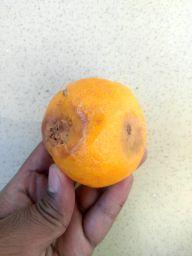Unripe: (41, 77, 146, 188)
